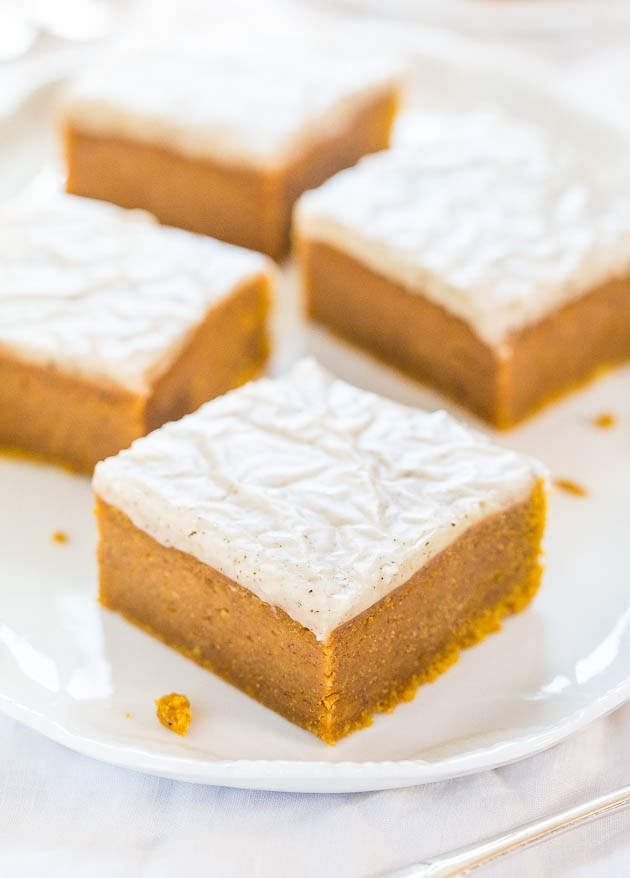cheese: (147, 351, 503, 699)
